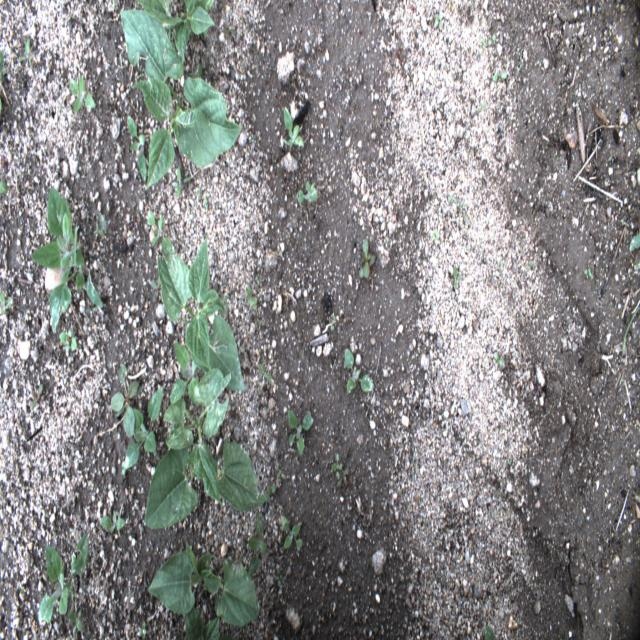crop: (146, 364, 268, 538), (128, 68, 244, 194), (158, 232, 246, 394), (146, 537, 261, 639), (30, 187, 104, 336), (121, 0, 219, 89)
weed: (35, 532, 88, 632), (124, 384, 166, 468), (166, 335, 208, 406), (110, 363, 142, 438), (287, 407, 319, 459), (344, 348, 373, 397), (127, 115, 149, 178), (68, 73, 95, 114), (246, 511, 270, 557), (622, 300, 640, 356), (280, 513, 303, 553), (282, 111, 305, 147), (168, 167, 191, 199), (146, 209, 164, 249), (100, 509, 125, 536), (15, 31, 33, 67), (330, 446, 344, 489), (296, 178, 318, 205), (0, 290, 16, 326), (362, 239, 376, 280), (57, 334, 78, 359), (95, 206, 109, 240), (246, 285, 258, 311), (628, 227, 640, 251), (0, 47, 8, 83), (258, 362, 272, 382), (481, 37, 501, 51), (583, 266, 594, 282), (484, 626, 496, 640), (452, 265, 458, 291), (492, 73, 506, 84), (0, 180, 9, 196), (434, 12, 442, 28), (494, 353, 503, 366), (331, 314, 337, 333), (476, 102, 486, 112), (432, 229, 439, 243), (526, 262, 536, 270)
